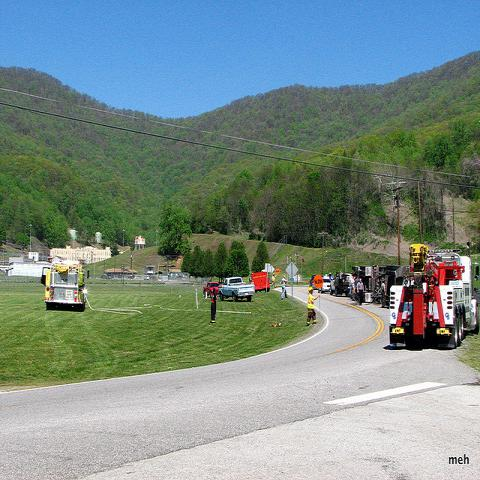car: (202, 282, 218, 297), (319, 277, 331, 294)
truck: (387, 243, 479, 348), (40, 263, 94, 311), (218, 276, 255, 302), (329, 270, 353, 296), (250, 272, 270, 293), (46, 257, 52, 263)
